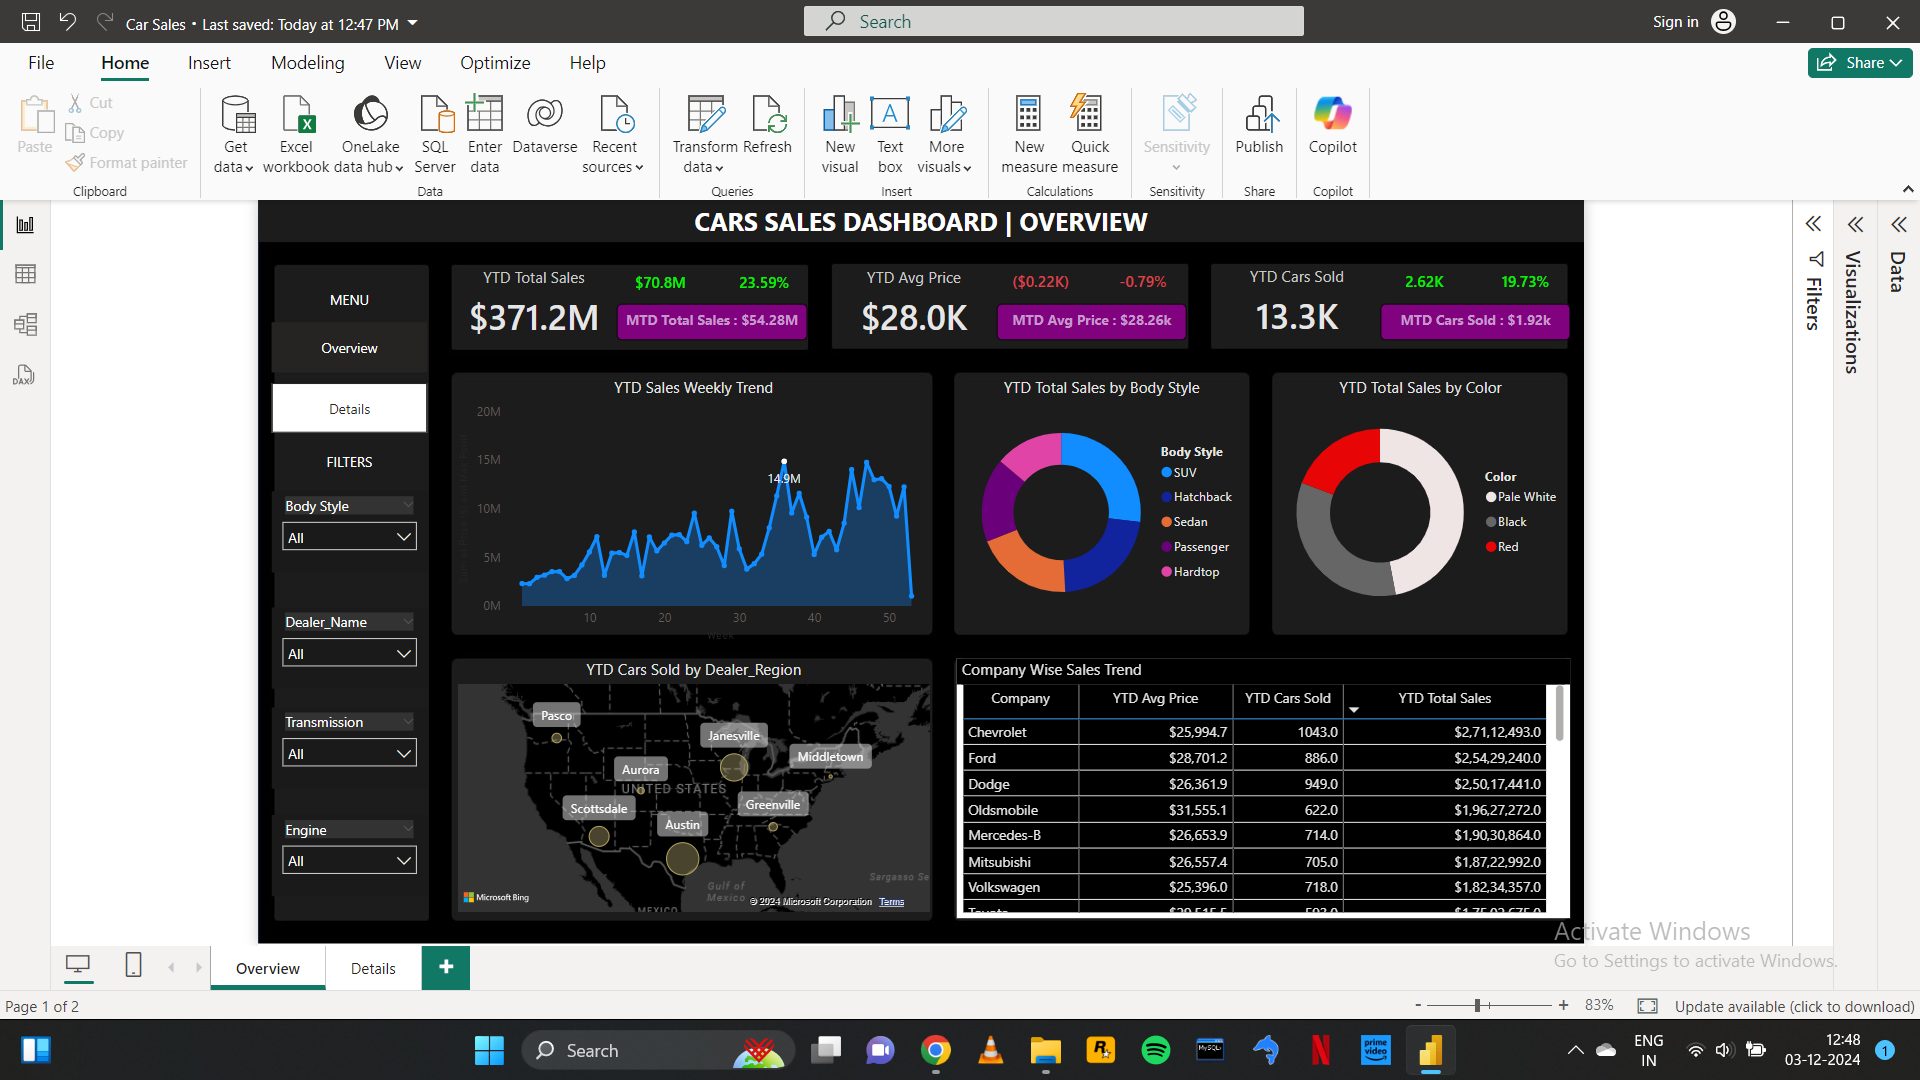

The page's visual inventory and layout, read from the dashboard file:
{"tool":"powerbi","page":{"name":"Overview","canvas":[1280,720],"ordinal":0},"visuals":[{"type":"card","title":"YTD Total Sales","fields":{"Values":["car_data.YTD Total Sales"]},"box":[187.5,63.8,158.8,77.5],"z":0},{"type":"card","fields":{"Values":["car_data.Sales Difference"]},"box":[346.2,63.8,85,36.2],"z":1000},{"type":"card","fields":{"Values":["car_data.YOY Sales Growth"]},"box":[447.5,63.8,82.5,36.2],"z":2000},{"type":"card","fields":{"Values":["car_data.MTD KPI"]},"box":[346.2,100,183.8,35],"z":3000},{"type":"card","title":"YTD Avg Price","fields":{"Values":["car_data.YTD Avg Price"]},"box":[553.8,63.8,158.8,77.5],"z":4000},{"type":"card","fields":{"Values":["car_data.Avg Price Diff"]},"box":[713.3,63.3,85,36.7],"z":5000},{"type":"card","fields":{"Values":["car_data.YoY Avg Price Growth"]},"box":[811.7,63.3,85,36.7],"z":6000},{"type":"card","fields":{"Values":["car_data.MTD Avg Price KPI"]},"box":[713.3,100,183.3,35],"z":7000},{"type":"card","title":"YTD Cars Sold","fields":{"Values":["car_data.YTD Cars Sold"]},"box":[923.3,63.3,160,78.3],"z":8000},{"type":"card","fields":{"Values":["car_data.Cars Sold Diff"]},"box":[1083.3,63.3,85,36.7],"z":9000},{"type":"card","fields":{"Values":["car_data.YoY Cars Sold Growth"]},"box":[1181.7,63.3,85,36.7],"z":10000},{"type":"card","fields":{"Values":["car_data.MTD Cars Sold KPI"]},"box":[1083.3,100,183.3,35],"z":11000},{"type":"areaChart","title":"YTD Sales Weekly Trend","fields":{"Category":["Calendar.Week"],"Y":["Sum(car_data.Price ($))","car_data.Max Point"]},"box":[188.3,170,465,261.7],"z":12000},{"type":"donutChart","fields":{"Category":["car_data.Body Style"],"Y":["car_data.YTD Total Sales"]},"box":[675,170,280,243.3],"z":13000},{"type":"donutChart","fields":{"Y":["car_data.YTD Total Sales"],"Category":["car_data.Color"]},"box":[976.7,170,290,243.3],"z":14000},{"type":"map","fields":{"Category":["car_data.Dealer_Region"],"Size":["car_data.YTD Cars Sold"]},"box":[188.3,443.3,465,250],"z":15000},{"type":"tableEx","title":"Company Wise Sales Trend","fields":{"Values":["car_data.Company","car_data.YTD Avg Price","car_data.YTD Cars Sold","car_data.YTD Total Sales"]},"box":[675,443.3,591.7,250],"z":16000},{"type":"textbox","box":[13.3,0,1253.3,43.3],"z":17000},{"type":"slicer","fields":{"Values":["car_data.Body Style"]},"box":[13.3,281.7,150,78.3],"z":18000},{"type":"slicer","fields":{"Values":["car_data.Dealer_Name"]},"box":[13.3,393.3,150,78.3],"z":19000},{"type":"slicer","fields":{"Values":["car_data.Transmission"]},"box":[13.3,490,150,78.3],"z":20000},{"type":"slicer","fields":{"Values":["car_data.Engine"]},"box":[13.3,593.3,150,78.3],"z":21000},{"type":"textbox","box":[13.3,238.3,150,31.7],"z":22000},{"type":"pageNavigator","box":[13.3,118.3,150,106.7],"z":23000},{"type":"textbox","box":[13.3,81.7,150,36.7],"z":24000}]}

Visuals, with their boxes on the page's 1280x720 design canvas (x1, y1, x2, y2). These are canvas units, not pixel positions in the 1920x1080 screenshot, which may show the page scaled, cropped or inside an application window:
"YTD Total Sales" card: [x1=188, y1=64, x2=346, y2=141]
card - car_data.Sales Difference: [x1=346, y1=64, x2=431, y2=100]
card - car_data.YOY Sales Growth: [x1=448, y1=64, x2=530, y2=100]
card - car_data.MTD KPI: [x1=346, y1=100, x2=530, y2=135]
"YTD Avg Price" card: [x1=554, y1=64, x2=713, y2=141]
card - car_data.Avg Price Diff: [x1=713, y1=63, x2=798, y2=100]
card - car_data.YoY Avg Price Growth: [x1=812, y1=63, x2=897, y2=100]
card - car_data.MTD Avg Price KPI: [x1=713, y1=100, x2=897, y2=135]
"YTD Cars Sold" card: [x1=923, y1=63, x2=1083, y2=142]
card - car_data.Cars Sold Diff: [x1=1083, y1=63, x2=1168, y2=100]
card - car_data.YoY Cars Sold Growth: [x1=1182, y1=63, x2=1267, y2=100]
card - car_data.MTD Cars Sold KPI: [x1=1083, y1=100, x2=1267, y2=135]
"YTD Sales Weekly Trend" areaChart: [x1=188, y1=170, x2=653, y2=432]
donutChart - car_data.Body Style x car_data.YTD Total Sales: [x1=675, y1=170, x2=955, y2=413]
donutChart - car_data.YTD Total Sales x car_data.Color: [x1=977, y1=170, x2=1267, y2=413]
map - car_data.Dealer_Region x car_data.YTD Cars Sold: [x1=188, y1=443, x2=653, y2=693]
"Company Wise Sales Trend" tableEx: [x1=675, y1=443, x2=1267, y2=693]
textbox: [x1=13, y1=0, x2=1267, y2=43]
slicer - car_data.Body Style: [x1=13, y1=282, x2=163, y2=360]
slicer - car_data.Dealer_Name: [x1=13, y1=393, x2=163, y2=472]
slicer - car_data.Transmission: [x1=13, y1=490, x2=163, y2=568]
slicer - car_data.Engine: [x1=13, y1=593, x2=163, y2=672]
textbox: [x1=13, y1=238, x2=163, y2=270]
pageNavigator: [x1=13, y1=118, x2=163, y2=225]
textbox: [x1=13, y1=82, x2=163, y2=118]
